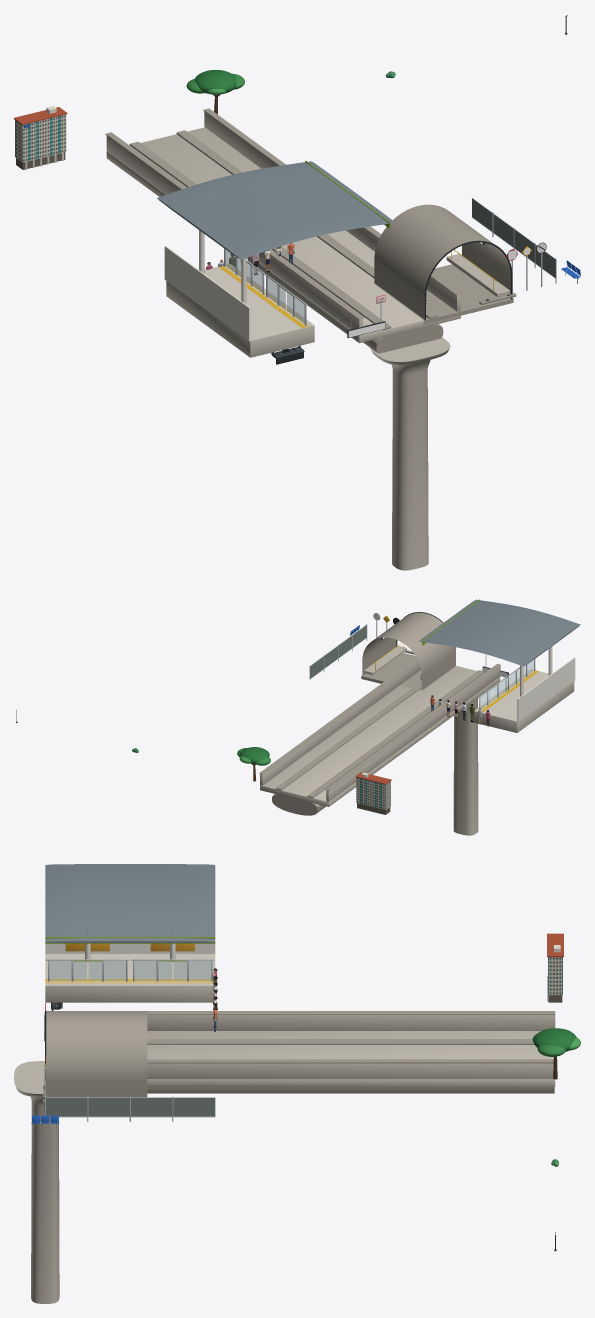
File: station-assets.glb
3 views of the same model, one above another, from view 1: azimuth 30°, elevation 25°; view 2: azimuth 150°, elevation 25°; view 3: azimuth 270°, elevation 25° (orthographic). The views are drawn at different scales.
Parts seen in each view (by area): view 1: Deck, Roof, TunnelFloor, Girder, BackWall, PlatformTop, PlatformSlab, HDB_body, FenceMesh, Walkway, PSDGlass, RT_leaf0; view 2: Deck, Roof, Girder, TunnelFloor, BackWall, PlatformTop, PlatformSlab, HDB_body, FenceMesh, Walkway, PSDGlass, RT_leaf0; view 3: Deck, Roof, Girder, TunnelFloor, PlatformTop, FenceMesh, PlatformSlab, PSDGlass, BackWall, PSDPost, Advert, RT_leaf0 (+2 smaller).
Boxes of the visible parts, bbox=[...] form: Deck: bbox=[106, 111, 460, 570]; Roof: bbox=[157, 161, 395, 259]; TunnelFloor: bbox=[373, 204, 513, 324]; Girder: bbox=[105, 108, 461, 353]; BackWall: bbox=[164, 230, 250, 341]; PlatformTop: bbox=[204, 264, 314, 340]; PlatformSlab: bbox=[166, 281, 314, 357]; HDB_body: bbox=[15, 114, 66, 162]; FenceMesh: bbox=[472, 199, 555, 277]; Walkway: bbox=[446, 254, 509, 297]; PSDGlass: bbox=[225, 249, 304, 323]; RT_leaf0: bbox=[194, 70, 236, 94]; Deck: bbox=[260, 661, 500, 835]; Roof: bbox=[419, 599, 580, 666]; Girder: bbox=[259, 658, 500, 815]; TunnelFloor: bbox=[361, 612, 456, 690]; BackWall: bbox=[517, 646, 575, 721]; PlatformTop: bbox=[474, 669, 548, 721]; PlatformSlab: bbox=[473, 681, 574, 732]; HDB_body: bbox=[356, 777, 390, 809]; FenceMesh: bbox=[309, 625, 366, 678]; Walkway: bbox=[364, 646, 406, 674]; PSDGlass: bbox=[480, 660, 534, 708]; RT_leaf0: bbox=[240, 747, 269, 763]; Deck: bbox=[14, 1015, 555, 1303]; Roof: bbox=[45, 864, 215, 942]; Girder: bbox=[46, 1011, 555, 1093]; TunnelFloor: bbox=[46, 1011, 147, 1097]; PlatformTop: bbox=[45, 954, 215, 985]; FenceMesh: bbox=[46, 1098, 215, 1116]; PlatformSlab: bbox=[45, 985, 213, 1002]; PSDGlass: bbox=[49, 960, 211, 980]; BackWall: bbox=[45, 943, 215, 961]; PSDPost: bbox=[46, 959, 214, 981]; Advert: bbox=[65, 943, 194, 951]; RT_leaf0: bbox=[533, 1028, 576, 1051].
Bounding box in the file's own units: 39.88 × 22.96 × 33.34.
Materials: 120 (8 with a texture image).
